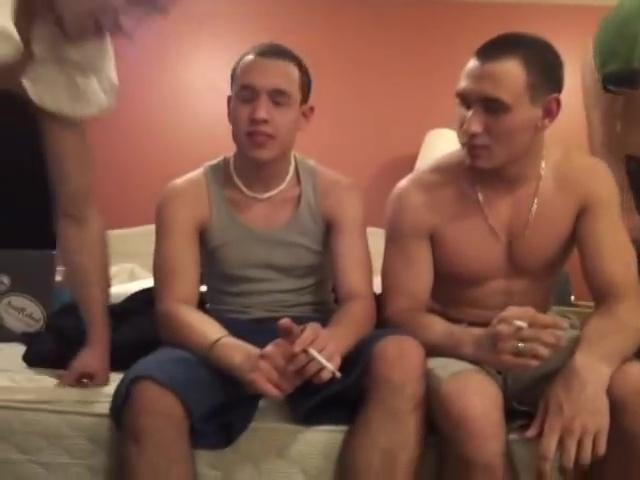cigarette: (305, 345, 345, 382), (507, 317, 533, 331)
